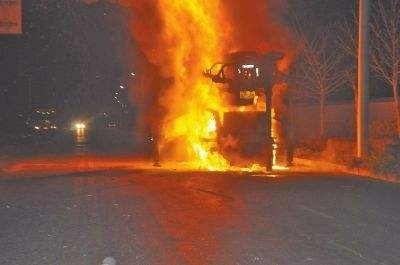fire: (134, 0, 299, 172)
